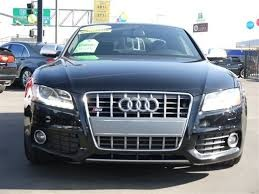Dent: (196, 110, 240, 132)
